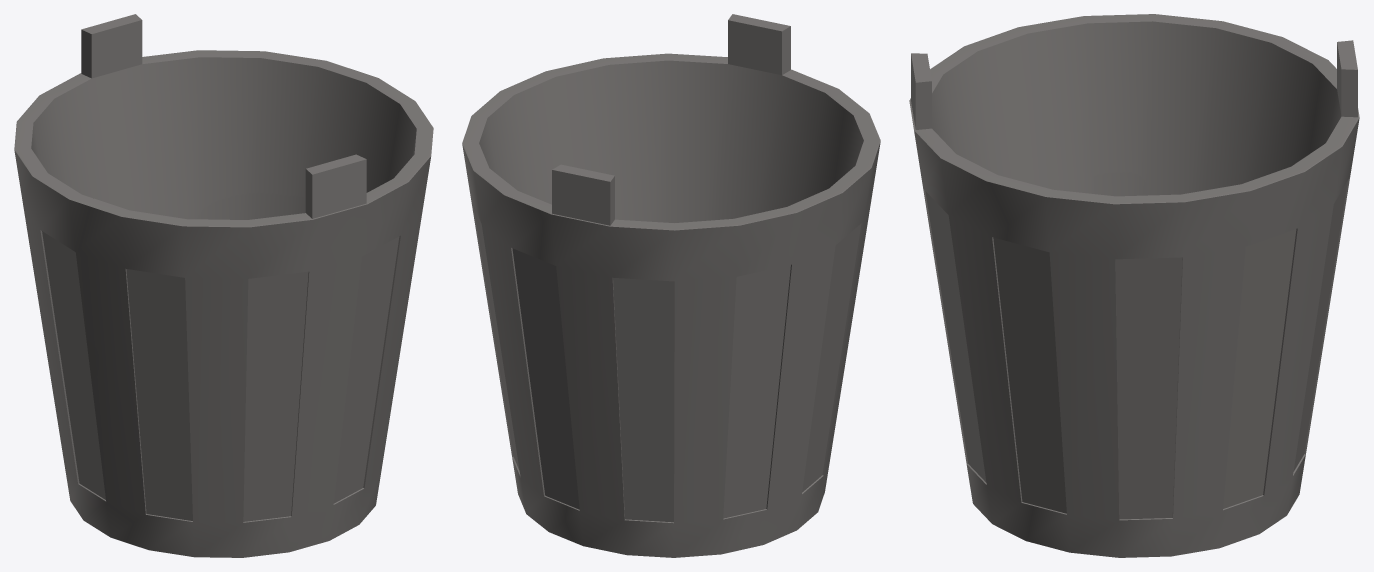
File: Ampari.fbx
The picture shows the model from 3 angles, left to right: view 1: azimuth 30°, elevation 25°; view 2: azimuth 150°, elevation 25°; view 3: azimuth 270°, elevation 25°; orthographic projection. The views are drawn at different scales.
Parts seen in each view (by area): view 1: pCylinder1; view 2: pCylinder1; view 3: pCylinder1.
Boxes of the visible parts, x1,y1,x2,y2 form: pCylinder1: (14,14,433,557); pCylinder1: (462,14,880,557); pCylinder1: (909,14,1359,557).
Size of the model in its own units: 2.74 by 2.87 by 2.74.
Materials: 1 (1 with a texture image).
